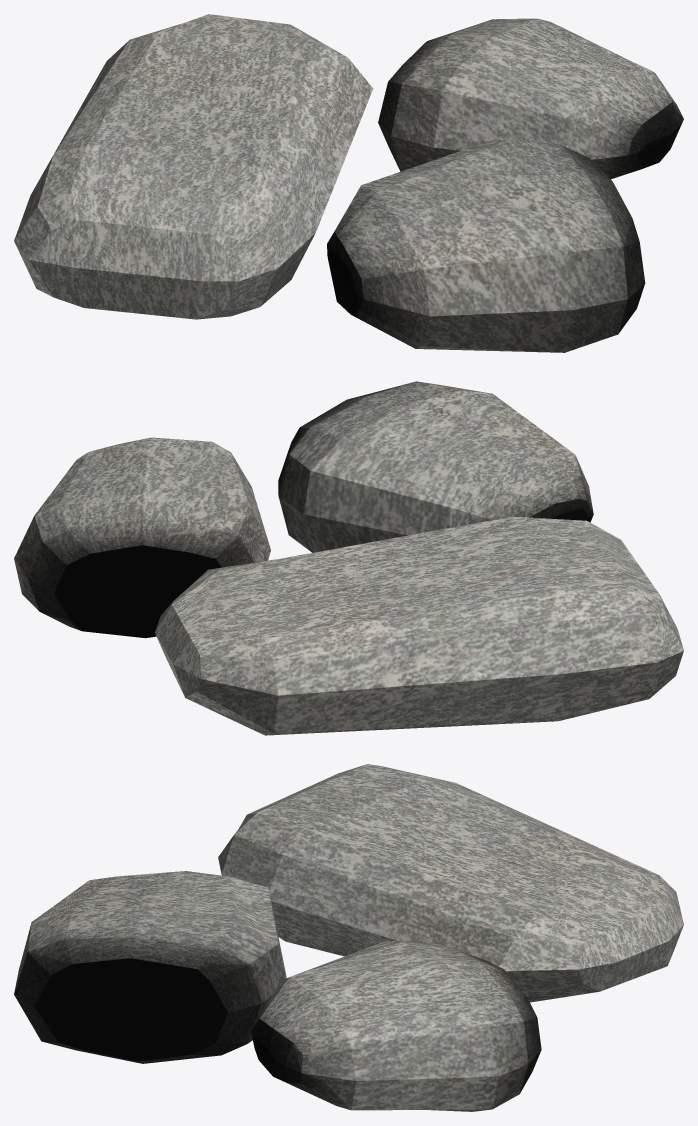
Rendered from EndStone.fbx.
3 views of the same model, one above another, from view 1: azimuth 30°, elevation 25°; view 2: azimuth 150°, elevation 25°; view 3: azimuth 270°, elevation 25° (orthographic). The views are drawn at different scales.
Parts seen in each view (by area): view 1: polySurface5; view 2: polySurface5; view 3: polySurface5.
Part boxes in pixels (<box>): polySurface5: <box>14,14,683,352</box>; polySurface5: <box>14,381,683,735</box>; polySurface5: <box>14,764,683,1111</box>.
Size of the model in its own units: 0.7817 by 0.1741 by 0.7537.
